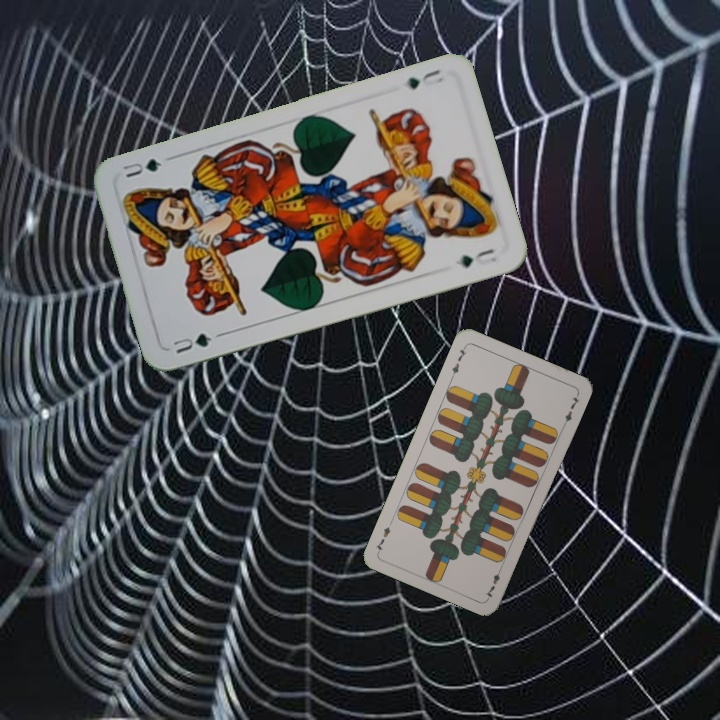E7: (481, 562, 505, 601), (447, 342, 469, 381)
GU: (168, 329, 215, 357), (402, 65, 446, 92)
